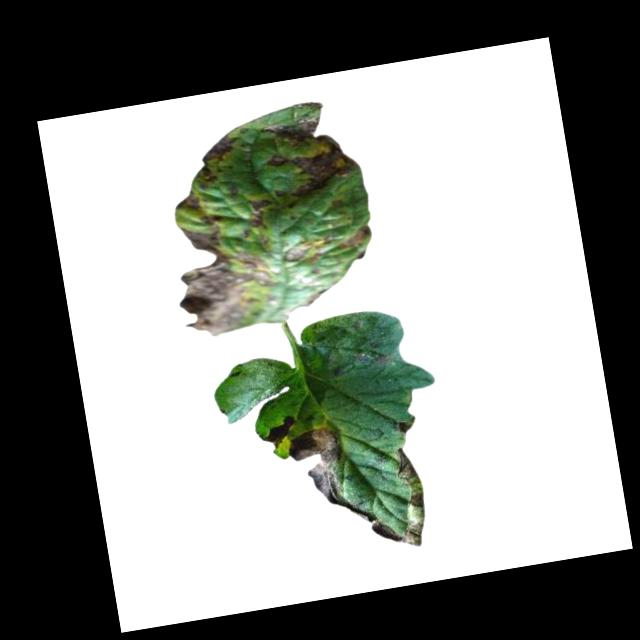Early_blight: (169, 214, 282, 342), (261, 110, 361, 212), (286, 422, 366, 535), (359, 444, 432, 554), (191, 132, 243, 185), (285, 233, 338, 271), (259, 411, 298, 449), (336, 221, 376, 252), (352, 339, 391, 367), (174, 191, 205, 213), (248, 194, 272, 211)
